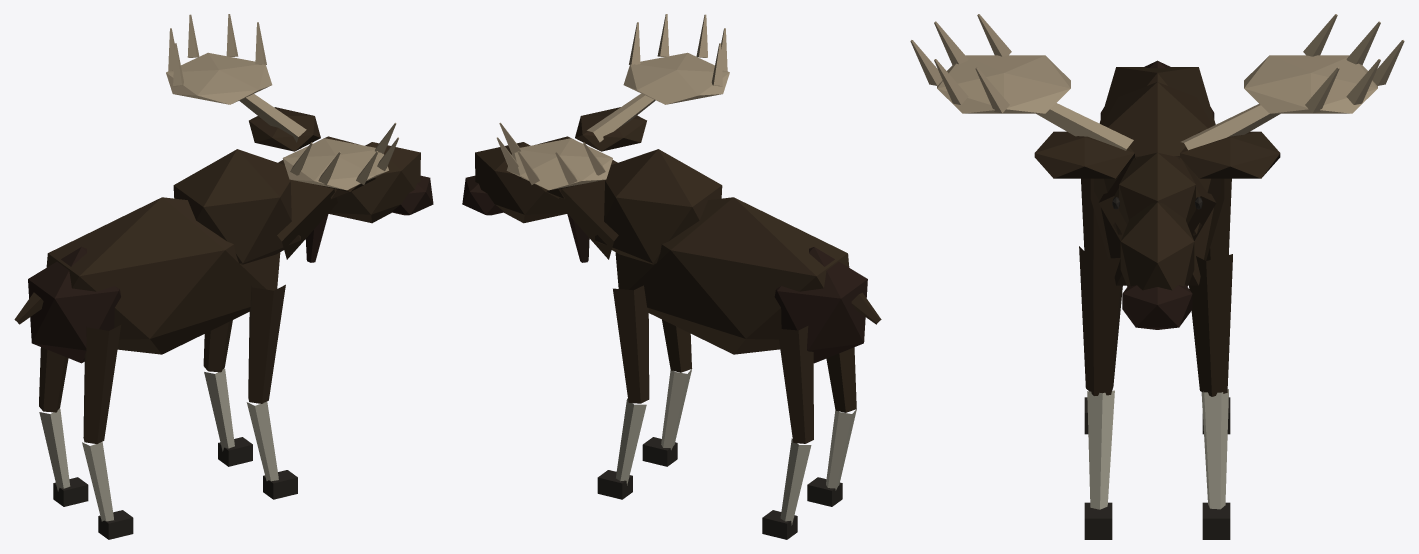
The model's file is moose_bull.glb.
3 views of the same model, side by side, from view 1: azimuth 30°, elevation 25°; view 2: azimuth 150°, elevation 25°; view 3: azimuth 270°, elevation 25° (orthographic). The views are drawn at different scales.
Visible parts, largest first — view 1: moose_bull; view 2: moose_bull; view 3: moose_bull.
Boxes of the visible parts, left/top/right/bottom form: moose_bull: left=14, top=14, right=433, bottom=539; moose_bull: left=462, top=14, right=881, bottom=539; moose_bull: left=910, top=14, right=1404, bottom=539.
Bounding box in the file's own units: 3.2 × 2.85 × 2.51.
